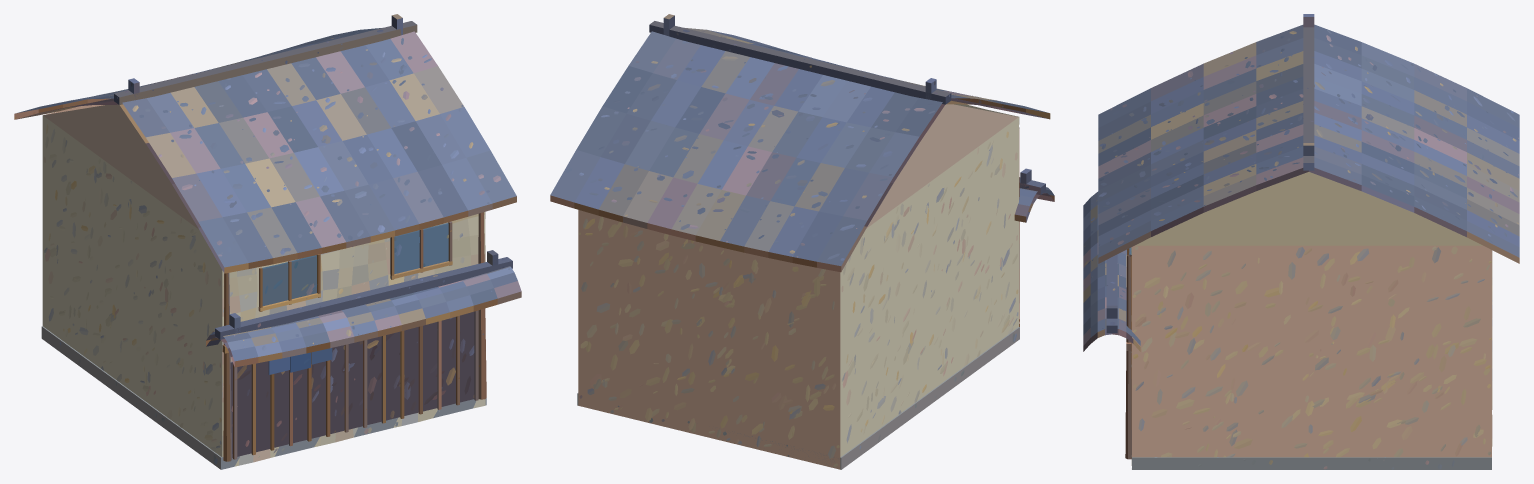
File: HK_Machiya_A.glb
The picture shows the model from 3 angles, left to right: view 1: azimuth 30°, elevation 25°; view 2: azimuth 150°, elevation 25°; view 3: azimuth 270°, elevation 25°; orthographic projection.
Parts seen in each view (by area): view 1: HK_Machiya_A; view 2: HK_Machiya_A; view 3: HK_Machiya_A.
Boxes of the visible parts, x1,y1,x2,y2 form: HK_Machiya_A: (14, 14, 521, 469); HK_Machiya_A: (550, 14, 1054, 469); HK_Machiya_A: (1083, 14, 1519, 469).
Size of the model in its own units: 8.16 by 8.47 by 10.3.
